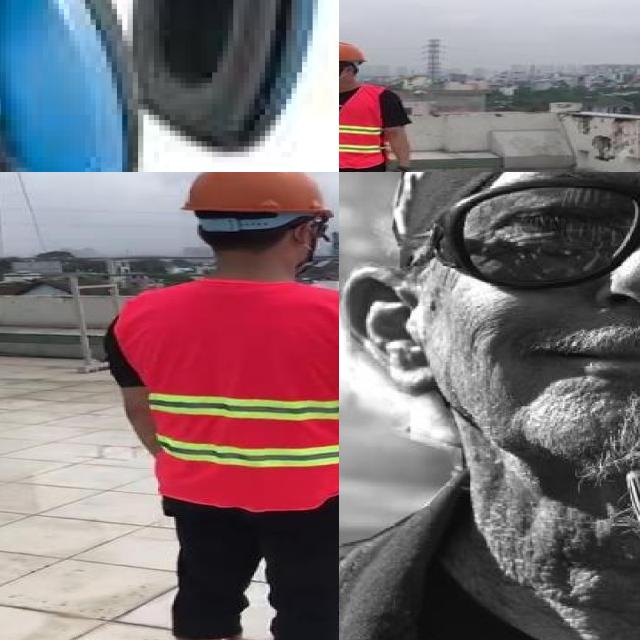Ear-protection: (0, 0, 339, 172)
No_Ear-Protection: (339, 260, 442, 404)
face_nomask: (464, 182, 640, 409)
glasses: (449, 172, 640, 286)
hand_glove: (387, 166, 412, 172)
head_helmet: (171, 172, 339, 221), (339, 39, 369, 66)
person: (90, 172, 339, 640), (339, 36, 424, 172)
vest: (113, 280, 339, 512), (339, 87, 385, 168)
